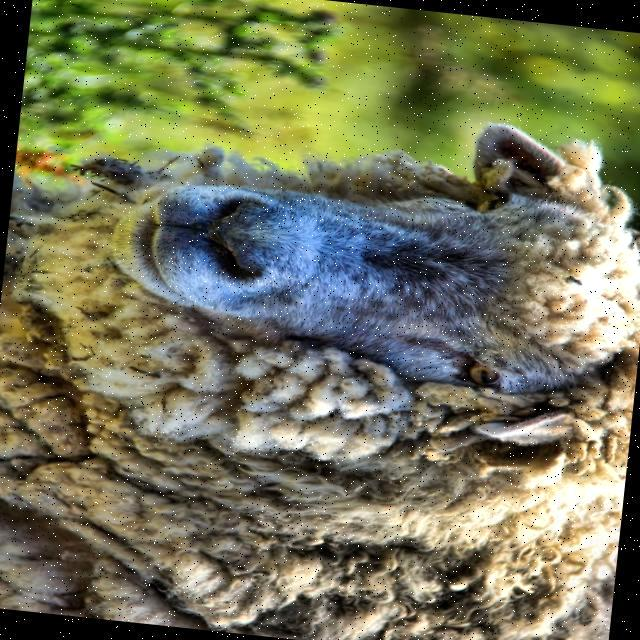sheep: (0, 126, 640, 640)
